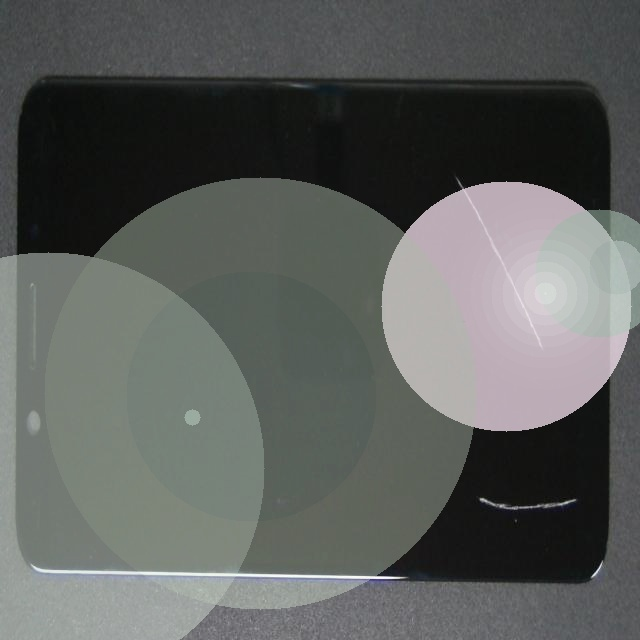scratch: (359, 258, 640, 640), (331, 270, 640, 418)
